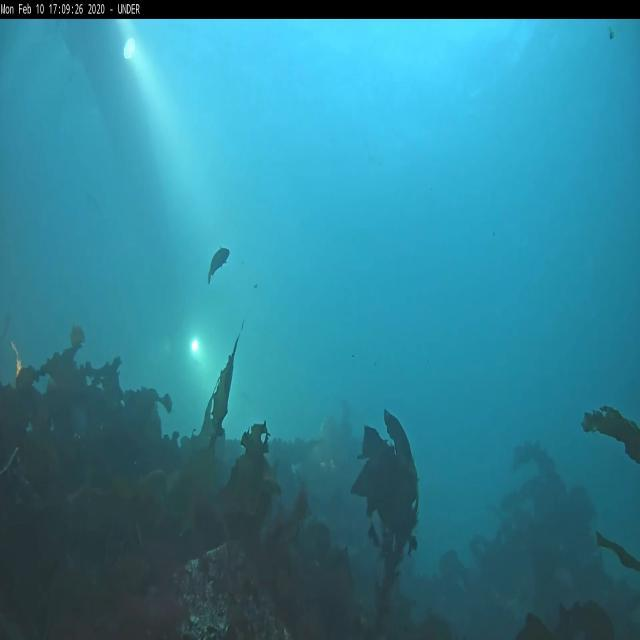fish: (207, 246, 230, 282)
